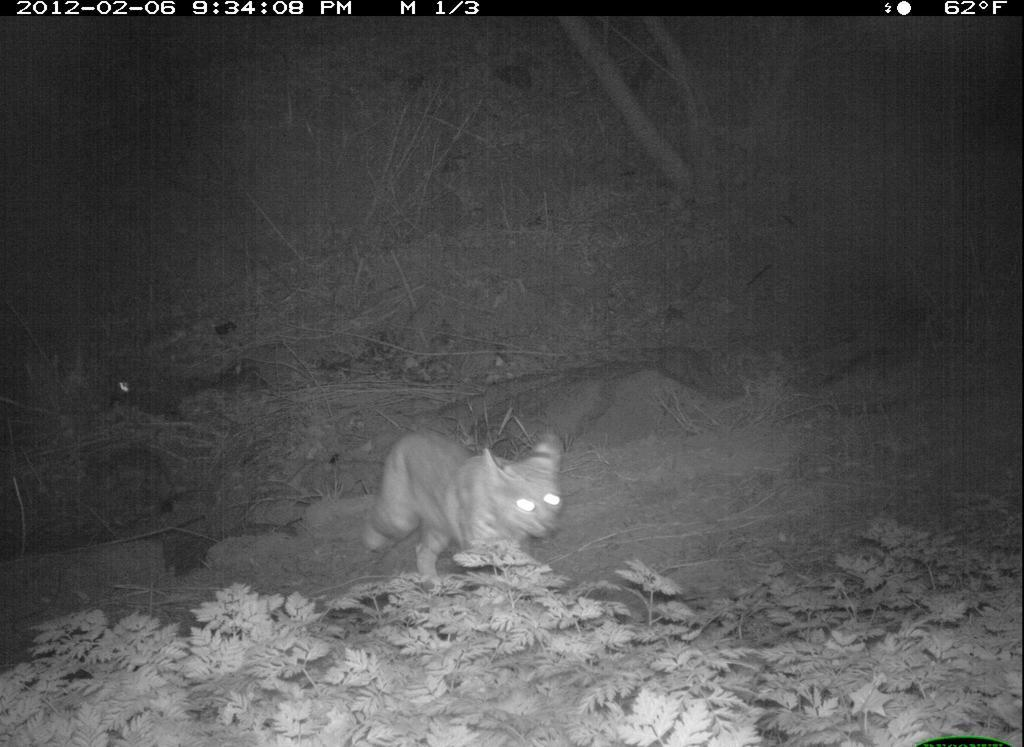bobcat: (346, 419, 578, 597)
